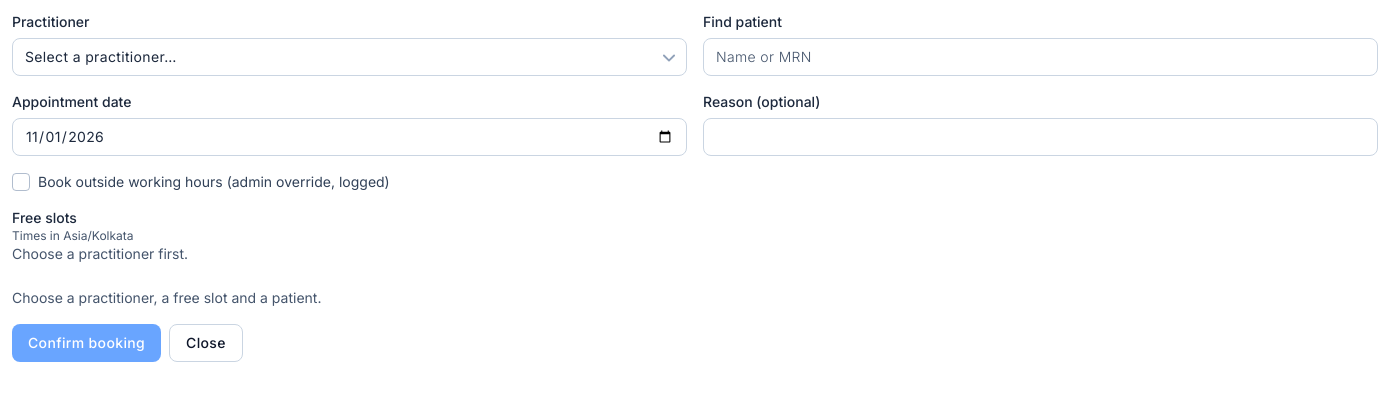
Scenario: Booking outside working hours › requires a reason once the override is ticked
Expected: the form named "Book appointment" shows "Reason (optional)", left=703, top=93, right=820, bottom=110
Click the checkbox labelled "Book outside working hours (admin override, logged)".
click(21, 182)  # box left=12, top=173, right=30, bottom=191
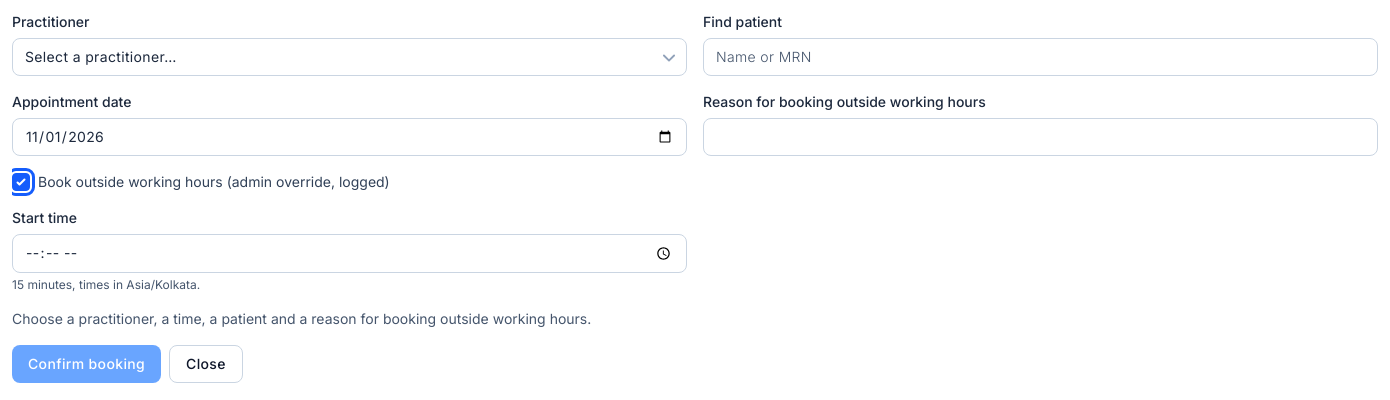
Expected: the button "Confirm booking" is disabled, left=12, top=345, right=161, bottom=383
Expected: the text with test id "booking-missing" shows "a reason for booking outside working hours", left=12, top=310, right=591, bottom=327
